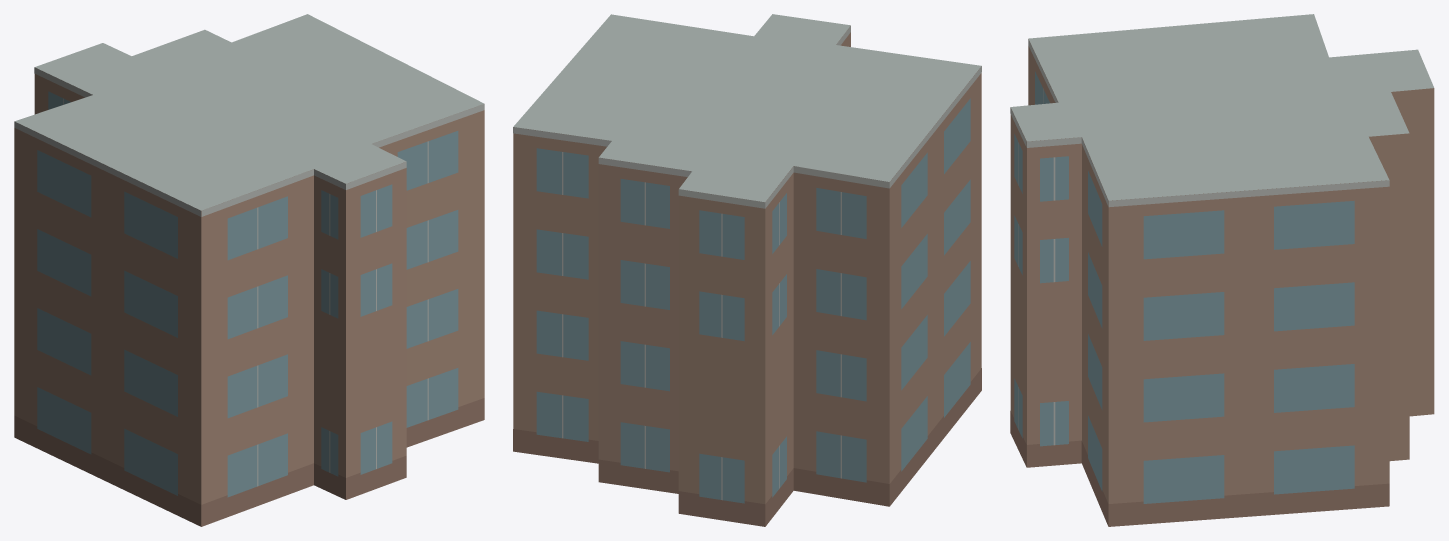
The model's file is survey-upis-32942684.glb.
3 renders of one model, left to right at view 1: azimuth 30°, elevation 25°; view 2: azimuth 150°, elevation 25°; view 3: azimuth 270°, elevation 25°, orthographic. The views are drawn at different scales.
Parts seen in each view (by area): view 1: survey-upis-32942684.tmp; view 2: survey-upis-32942684.tmp; view 3: survey-upis-32942684.tmp.
Boxes of the visible parts, bbox=[...] form: survey-upis-32942684.tmp: bbox=[14, 14, 484, 526]; survey-upis-32942684.tmp: bbox=[513, 14, 981, 526]; survey-upis-32942684.tmp: bbox=[1010, 14, 1434, 526].
Size of the model in its own units: 14.98 by 12.2 by 14.38.
